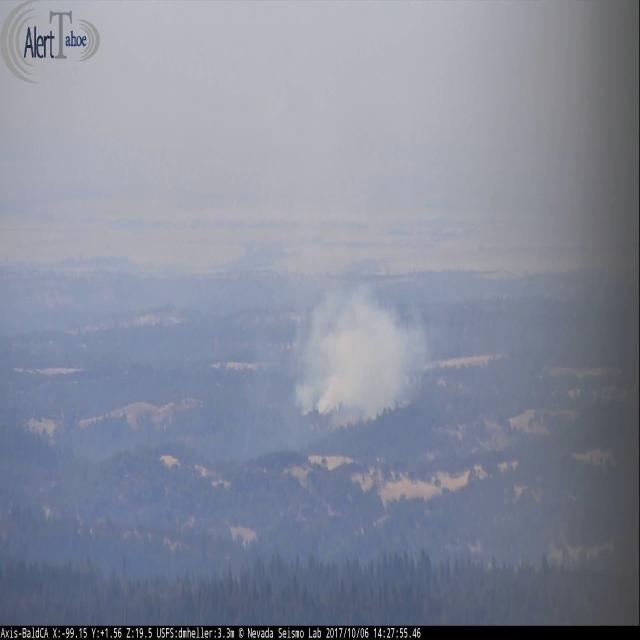smoke: (292, 285, 425, 425)
